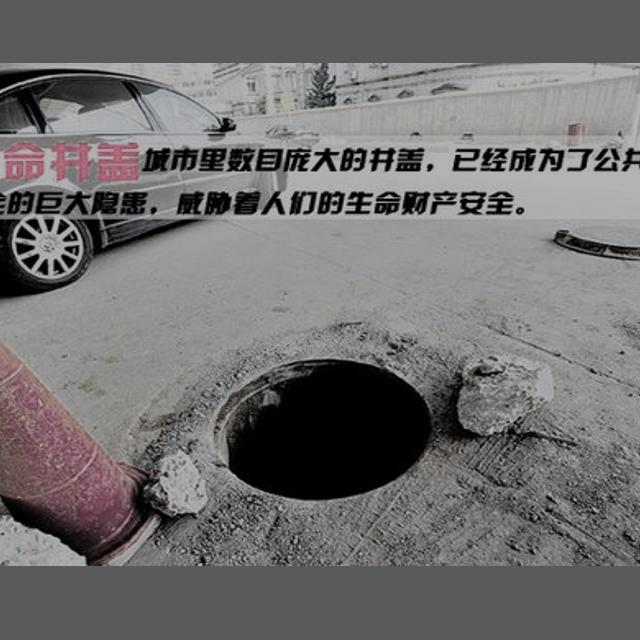lose: (204, 346, 445, 511)
